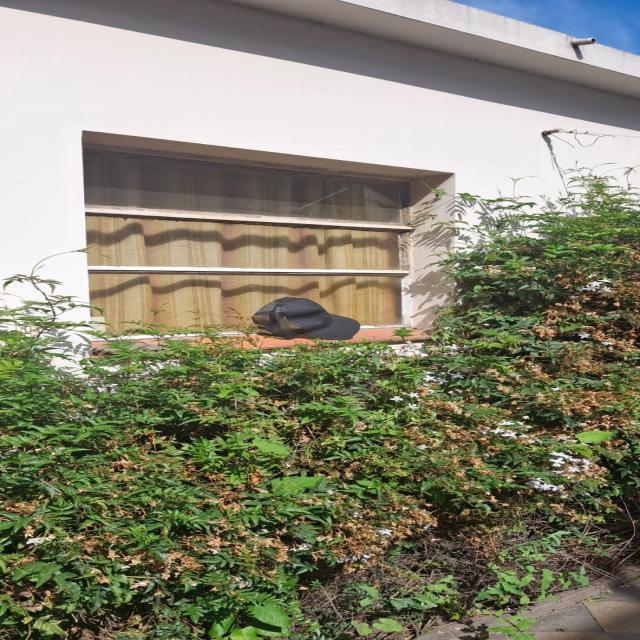Gorra: (247, 295, 366, 342)
